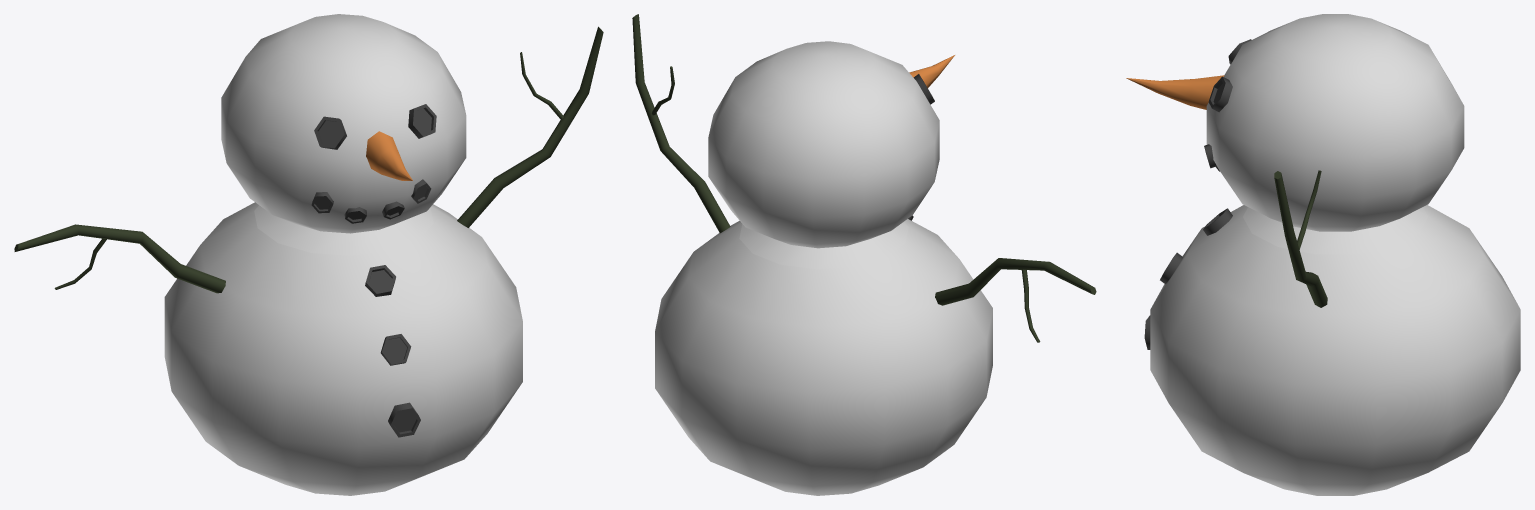
The model's file is M_SnowMan.FBX.
3 renders of one model, left to right at view 1: azimuth 30°, elevation 25°; view 2: azimuth 150°, elevation 25°; view 3: azimuth 270°, elevation 25°, orthographic. The views are drawn at different scales.
Parts seen in each view (by area): view 1: Sphere001; view 2: Sphere001; view 3: Sphere001.
Boxes of the visible parts, <box> form: Sphere001: <box>14,14,603,495</box>; Sphere001: <box>632,14,1096,495</box>; Sphere001: <box>1126,14,1520,495</box>.
Size of the model in its own units: 200 by 159 by 126.
1 material, 1 textured.
